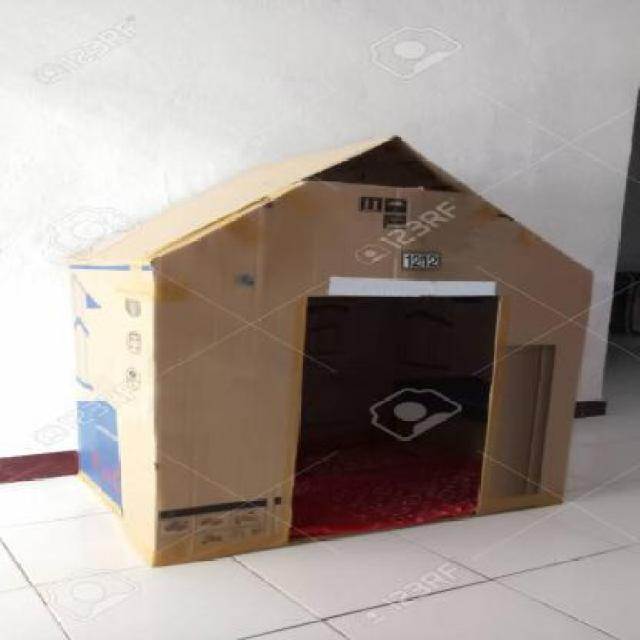box: (76, 135, 579, 565)
